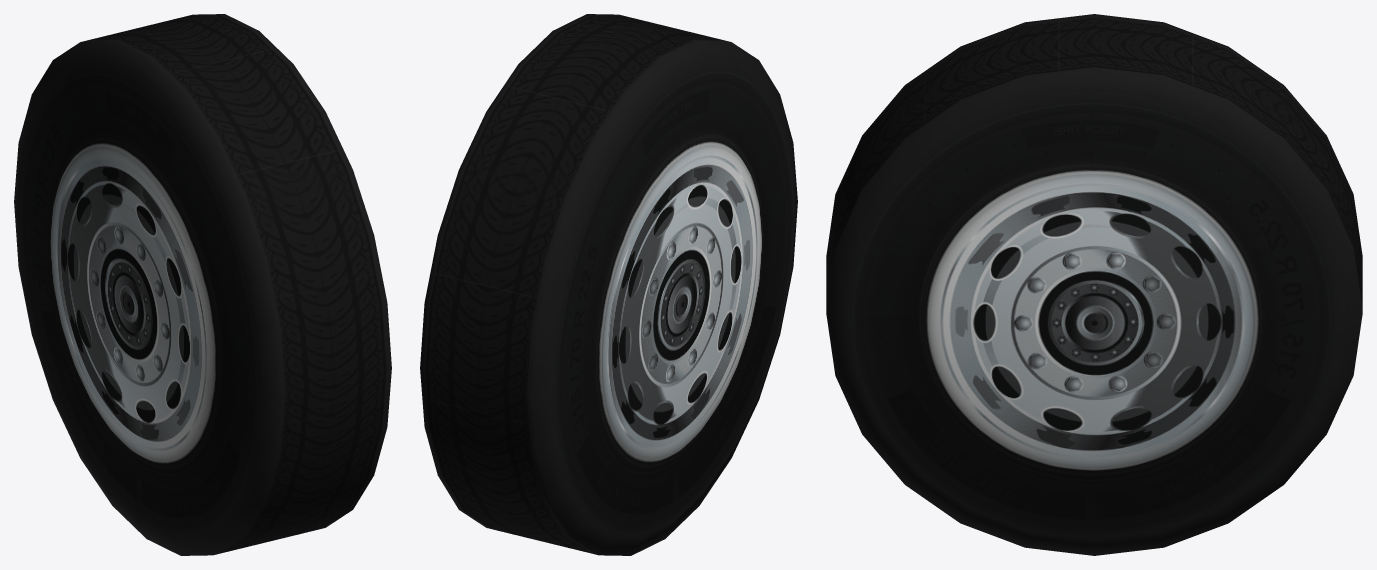
File: Tyre1.fbx
3 views of the same model, side by side, from view 1: azimuth 30°, elevation 25°; view 2: azimuth 150°, elevation 25°; view 3: azimuth 270°, elevation 25° (orthographic).
Parts seen in each view (by area): view 1: wheels_Circle.002; view 2: wheels_Circle.002; view 3: wheels_Circle.002.
Part boxes in pixels (x1=…): wheels_Circle.002: x1=14, y1=14, x2=391, y2=555; wheels_Circle.002: x1=420, y1=14, x2=797, y2=555; wheels_Circle.002: x1=826, y1=14, x2=1362, y2=555.
Bounding box in the file's own units: 25.74 × 80 × 80.
